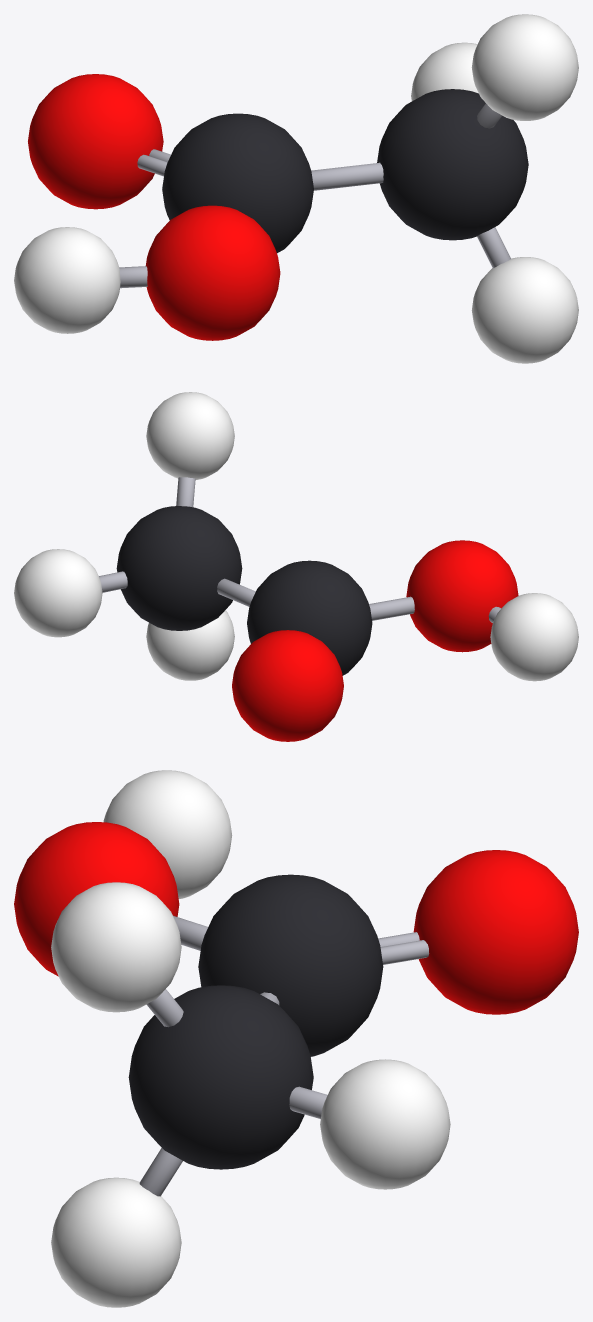
Rendered from ethanoic-acid.glb.
3 renders of one model, top to bottom at view 1: azimuth 30°, elevation 25°; view 2: azimuth 150°, elevation 25°; view 3: azimuth 270°, elevation 25°, orthographic. The views are drawn at different scales.
Parts seen in each view (by area): view 1: C0, O3, O2, C1, H4, H7, H5, H6, bond0-0, bond4-0, bond6-0; view 2: C0, O2, O3, C1, H6, H7, H4, H5, bond2-0, bond0-0, bond3-0, bond5-0; view 3: C0, C1, O2, H6, H4, H5, O3, H7, bond4-0, bond5-0, bond1-1, bond3-0 (+1 smaller).
Boxes of the visible parts, x1,y1,x2,y2 form: C0: [377, 89, 528, 240]; O3: [145, 205, 280, 340]; O2: [28, 74, 163, 209]; C1: [162, 113, 313, 253]; H4: [471, 14, 578, 120]; H7: [14, 227, 120, 333]; H5: [471, 257, 578, 363]; H6: [411, 42, 478, 101]; bond0-0: [311, 162, 383, 190]; bond4-0: [477, 227, 510, 267]; bond6-0: [119, 266, 147, 288]; C0: [116, 506, 242, 630]; O2: [232, 630, 343, 741]; O3: [406, 540, 518, 652]; C1: [247, 560, 372, 675]; H6: [14, 549, 102, 637]; H7: [490, 593, 578, 681]; H4: [146, 392, 234, 479]; H5: [146, 610, 234, 680]; bond2-0: [369, 596, 414, 620]; bond0-0: [217, 578, 255, 606]; bond3-0: [176, 477, 195, 507]; bond5-0: [99, 571, 127, 592]; C0: [128, 985, 313, 1169]; C1: [198, 874, 383, 1056]; O2: [413, 850, 578, 1014]; H6: [320, 1059, 450, 1189]; H4: [51, 882, 181, 1012]; H5: [51, 1177, 181, 1307]; O3: [14, 822, 179, 976]; H7: [103, 770, 232, 898]; bond4-0: [139, 1148, 182, 1196]; bond5-0: [289, 1086, 327, 1118]; bond1-1: [380, 940, 429, 964]; bond3-0: [146, 989, 183, 1027].
Bounding box in the file's own units: 4.49 × 2.52 × 3.11.
